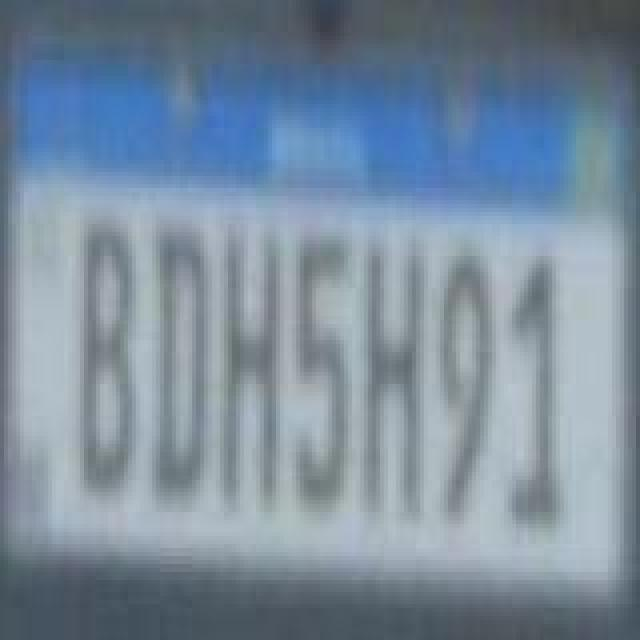1: (508, 250, 564, 534)
5: (292, 230, 348, 514)
9: (436, 246, 492, 530)
B: (82, 222, 142, 498)
D: (148, 226, 212, 510)
H: (364, 230, 428, 522), (218, 222, 278, 514)
